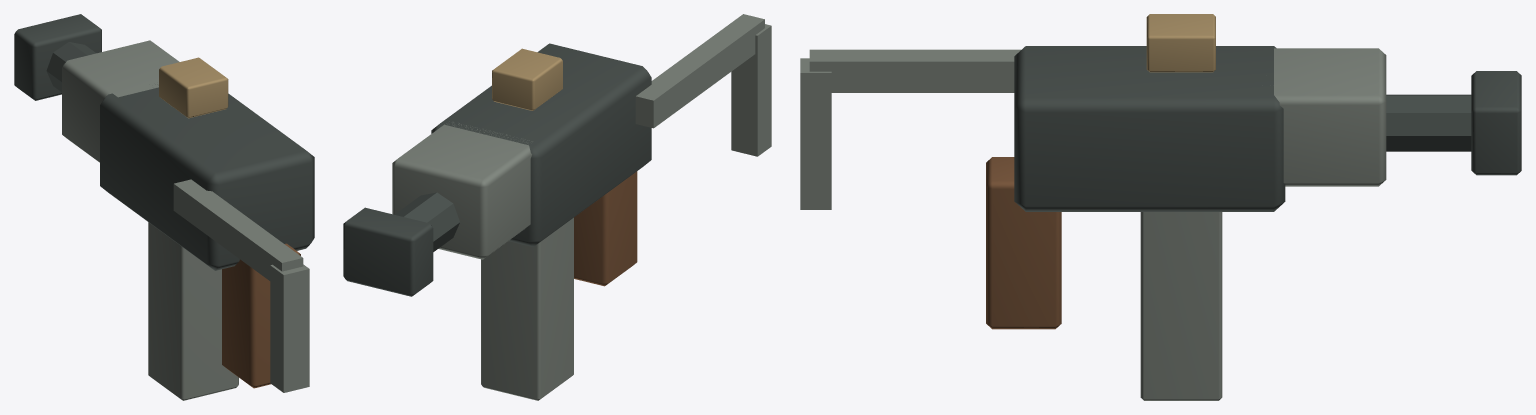
File: smg.glb
3 renders of one model, left to right at view 1: azimuth 30°, elevation 25°; view 2: azimuth 150°, elevation 25°; view 3: azimuth 270°, elevation 25°, orthographic. The views are drawn at different scales.
Parts seen in each view (by area): view 1: compact receiver, vertical magazine, short heat shield, grip, folded side stock, wire stock end, short muzzle, raised top sight, short barrel; view 2: compact receiver, vertical magazine, short heat shield, short muzzle, folded side stock, grip, wire stock end, raised top sight, short barrel; view 3: compact receiver, vertical magazine, short heat shield, grip, folded side stock, short muzzle, short barrel, wire stock end, raised top sight.
Boxes of the visible parts, x1=… form: compact receiver: x1=100, y1=84, x2=314, y2=270; vertical magazine: x1=148, y1=222, x2=238, y2=400; short heat shield: x1=62, y1=40, x2=179, y2=162; grip: x1=222, y1=243, x2=300, y2=388; folded side stock: x1=173, y1=179, x2=303, y2=280; wire stock end: x1=270, y1=264, x2=309, y2=392; short muzzle: x1=14, y1=14, x2=101, y2=100; raised top sight: x1=159, y1=57, x2=228, y2=118; short barrel: x1=46, y1=42, x2=95, y2=92; compact receiver: x1=431, y1=43, x2=651, y2=246; vertical magazine: x1=481, y1=217, x2=573, y2=400; short heat shield: x1=392, y1=121, x2=532, y2=259; short muzzle: x1=343, y1=207, x2=433, y2=296; folded side stock: x1=635, y1=14, x2=764, y2=128; grip: x1=574, y1=171, x2=637, y2=286; wire stock end: x1=731, y1=24, x2=771, y2=156; raised top sight: x1=492, y1=48, x2=562, y2=110; short barrel: x1=394, y1=192, x2=459, y2=251; compact receiver: x1=1014, y1=46, x2=1285, y2=211; vertical magazine: x1=1140, y1=212, x2=1222, y2=400; short heat shield: x1=1274, y1=48, x2=1386, y2=186; grip: x1=986, y1=157, x2=1061, y2=329; folded side stock: x1=809, y1=49, x2=1021, y2=92; short muzzle: x1=1471, y1=71, x2=1521, y2=175; short barrel: x1=1386, y1=94, x2=1471, y2=151; wire stock end: x1=800, y1=58, x2=831, y2=209; raised top sight: x1=1146, y1=14, x2=1215, y2=72.
Bounding box in the file's own units: 0.1962 × 0.4554 × 0.8244.
